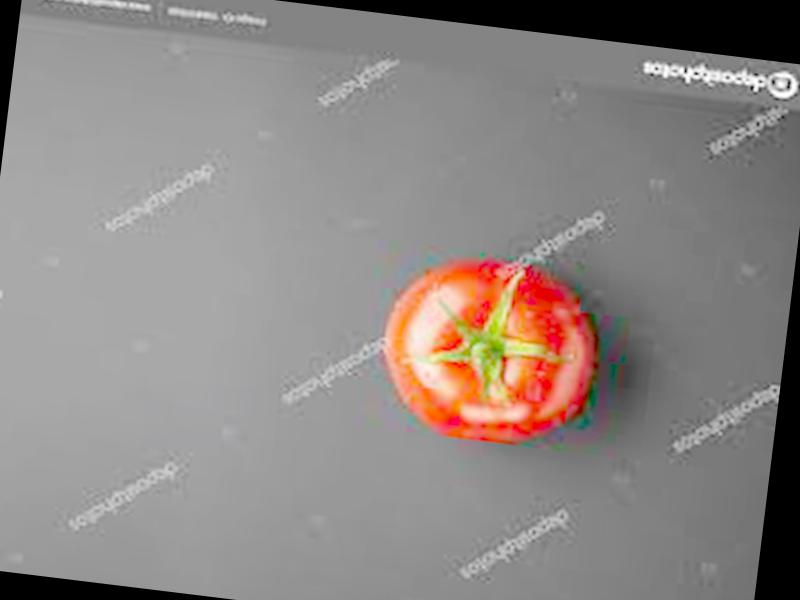Tomato: (369, 246, 602, 455)
